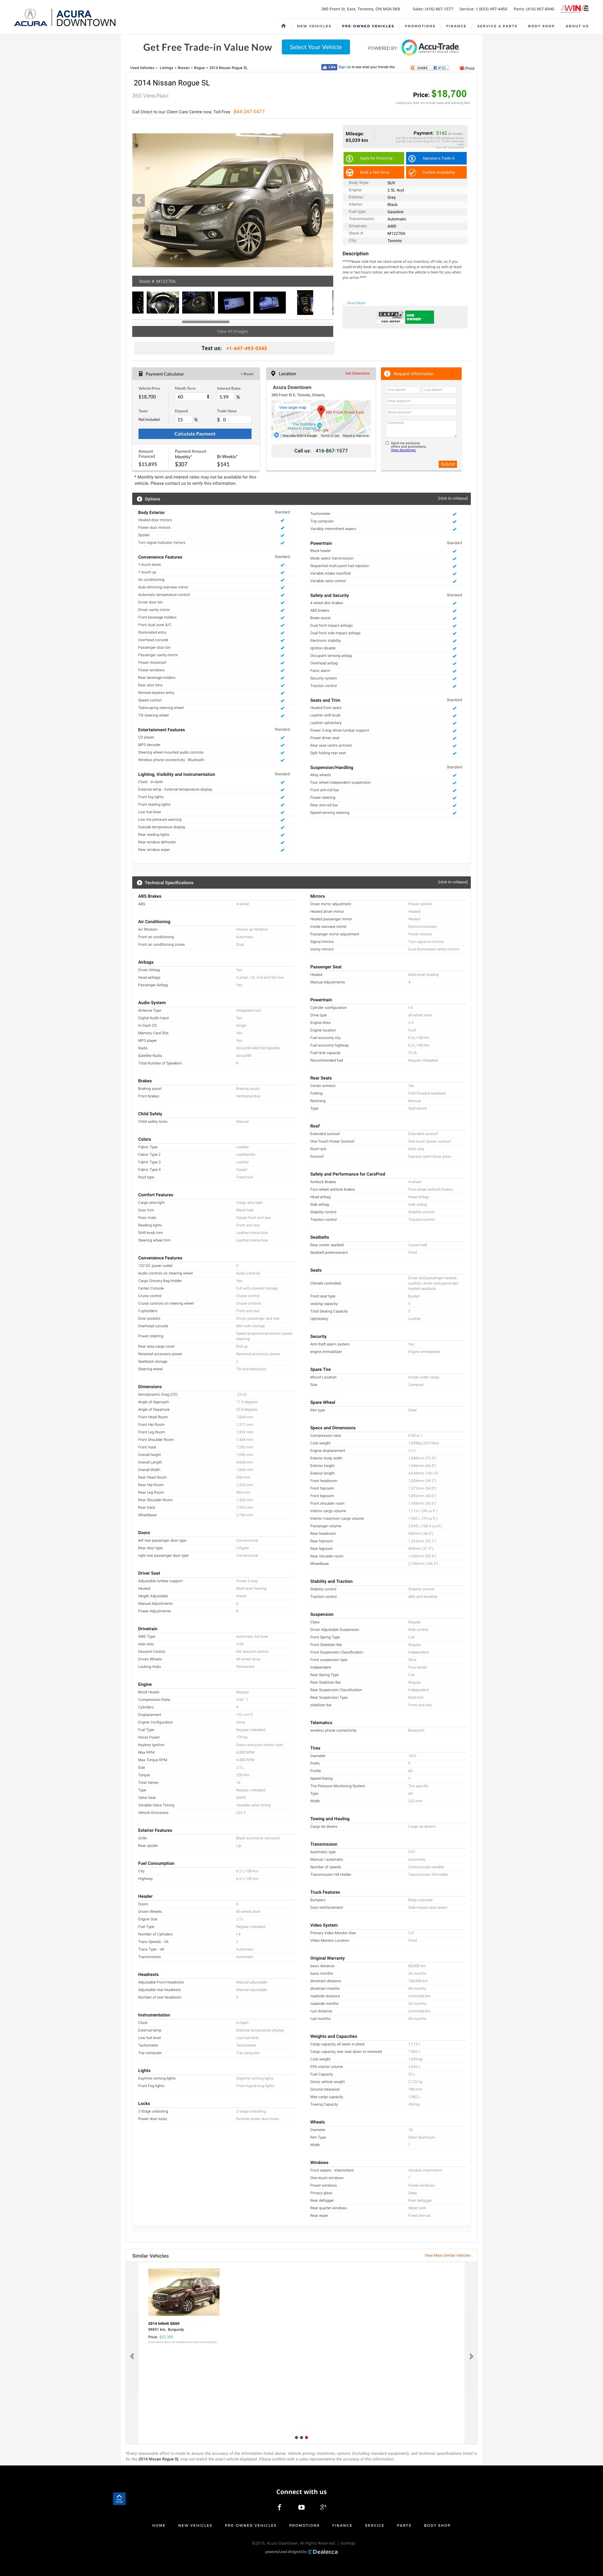car: (319, 192, 335, 209)
